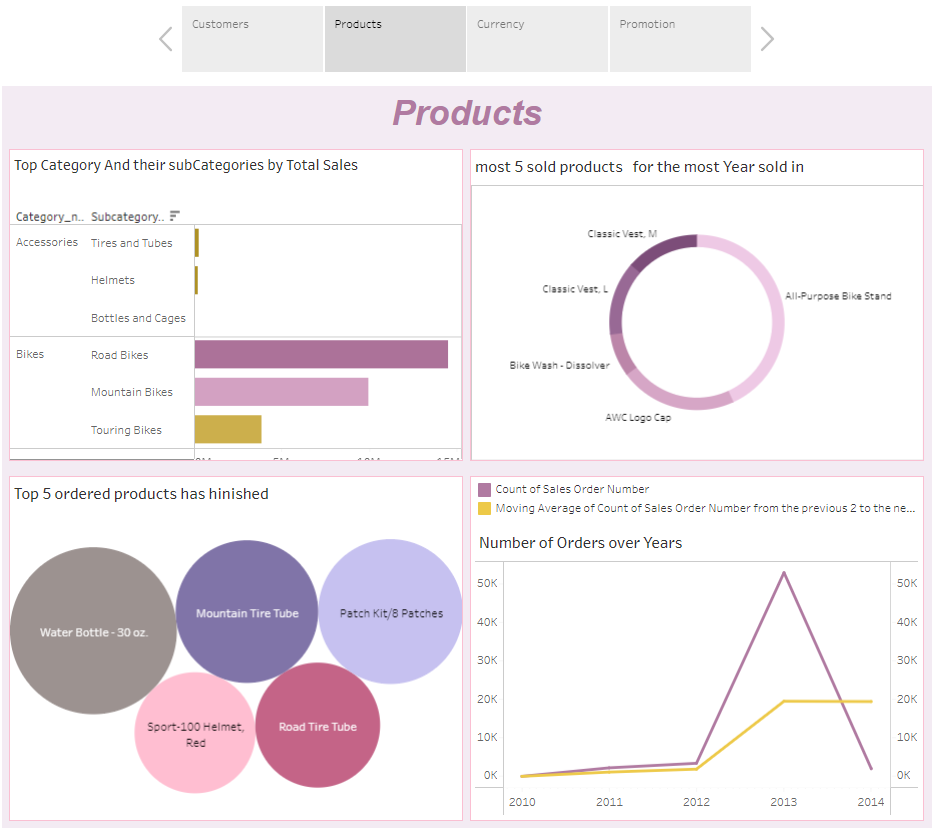

The dashboard page shown, as its layout file describes it:
{"tool":"tableau","page":{"name":"Dashboard 1","canvas":[1000,800],"ordinal":0},"visuals":[{"type":"text","box":[4,4,992,72]},{"type":"worksheet","title":"Sheet 1","mark":"Automatic","rows":["EnglishProductCategoryName","EnglishProductSubcategoryName"],"cols":["SalesAmount"],"box":[8,80,492,341]},{"type":"worksheet","title":"Sheet 2","mark":"Pie","rows":["OrderDate"],"cols":["Calculation_1508142970732838913","Calculation_1508142970732838913"],"box":[500,80,492,341]},{"type":"worksheet","title":"Sheet 3","mark":"Circle","box":[8,429,492,363]},{"type":"legend","title":"Sheet 4","param":"[federated.0r8zh2e1pzmrfg129jxzw04584lt].[:Measure Names]","box":[505,434,482,50]},{"type":"worksheet","title":"Sheet 4","mark":"Automatic","rows":["SalesOrderNumber","SalesOrderNumber"],"cols":["OrderDate"],"box":[505,484,482,303]}]}

Visuals, with their boxes on the page's 1000x800 design canvas (x1, y1, x2, y2). These are canvas units, not pixel positions in the 937x830 screenshot, which may show the page scaled, cropped or inside an application window:
text: bbox=[4, 4, 996, 76]
"Sheet 1" worksheet: bbox=[8, 80, 500, 421]
"Sheet 2" worksheet (Pie marks): bbox=[500, 80, 992, 421]
"Sheet 3" worksheet (Circle marks): bbox=[8, 429, 500, 792]
"Sheet 4" legend: bbox=[505, 434, 987, 484]
"Sheet 4" worksheet: bbox=[505, 484, 987, 787]
